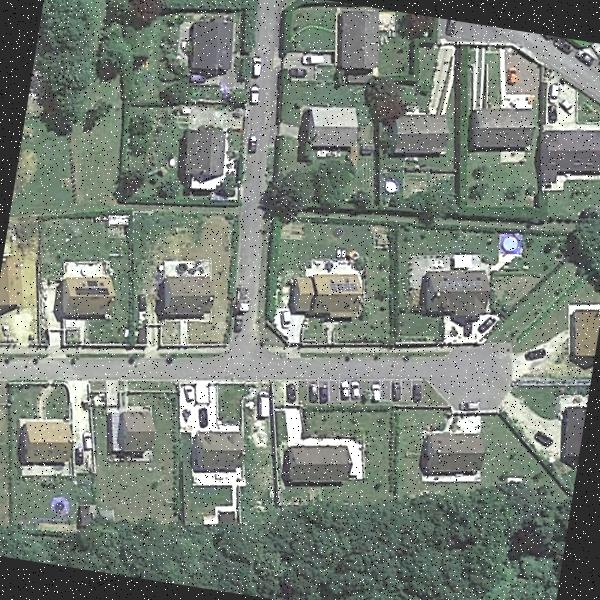Buildings: (413, 264, 494, 325), (536, 117, 600, 194), (329, 2, 390, 72), (293, 270, 363, 320), (471, 108, 531, 162), (182, 12, 236, 72), (282, 440, 352, 485), (424, 428, 492, 472), (20, 421, 74, 467), (305, 105, 360, 150), (183, 124, 228, 177), (563, 303, 600, 364), (65, 275, 115, 320), (190, 431, 245, 471), (396, 116, 449, 157), (0, 239, 26, 314), (168, 274, 214, 316), (118, 415, 156, 457)
